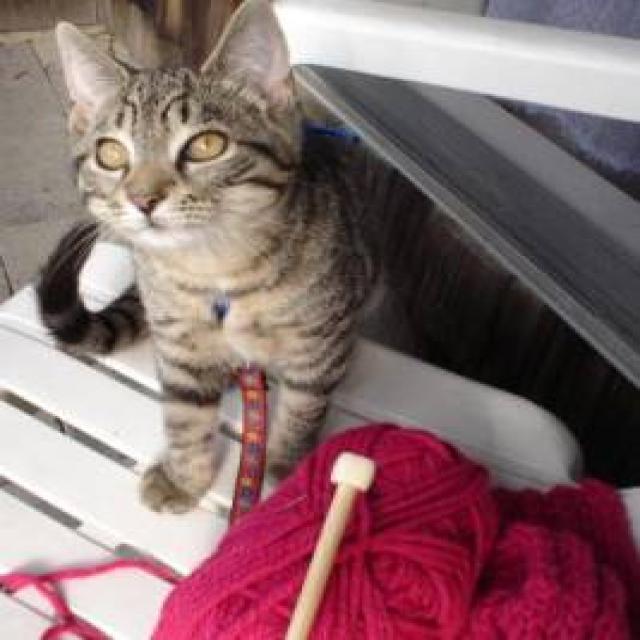Egyptian_Mau: (54, 5, 311, 260)
